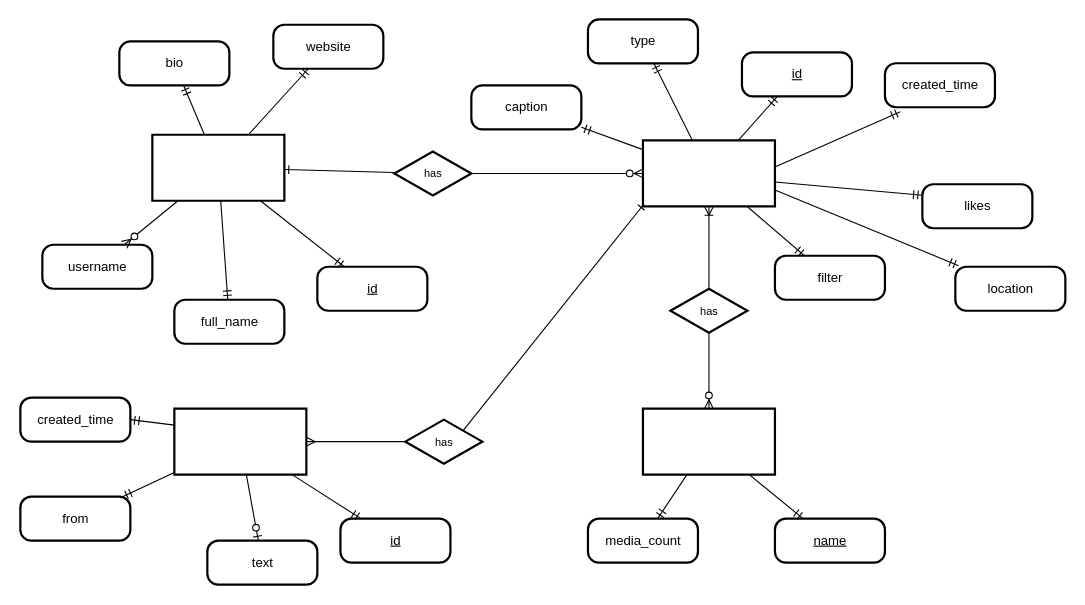
Some shapes in this 1085 by 605 pixel diagram are drawn without their labels. The shapes that lost their labels are listed below. From the top down, each one's centre as x and y in pixels, then its label:
[218,167]: User
[708,173]: Media
[240,441]: Comment
[708,441]: Tag
